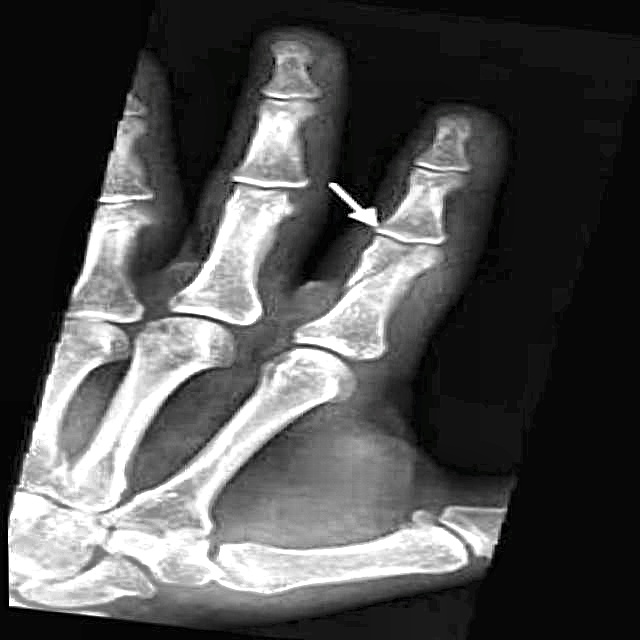Oblique Displaced: (335, 217, 456, 315)
